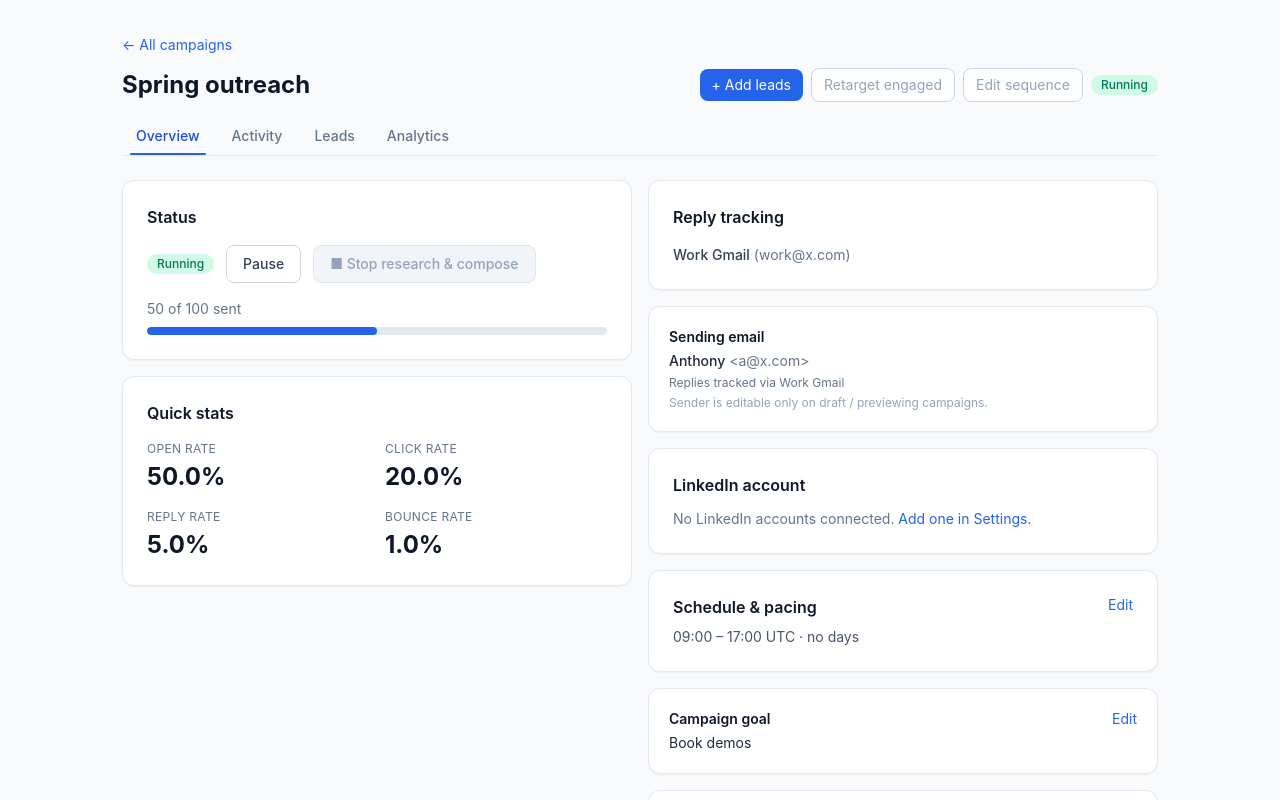
Test case: CampaignDetail › Switching to Analytics tab renders analytics content
The image size is (1280, 800).
Click the tab with test id "tab-analytics" at (418, 137), box [373,118,463,156]
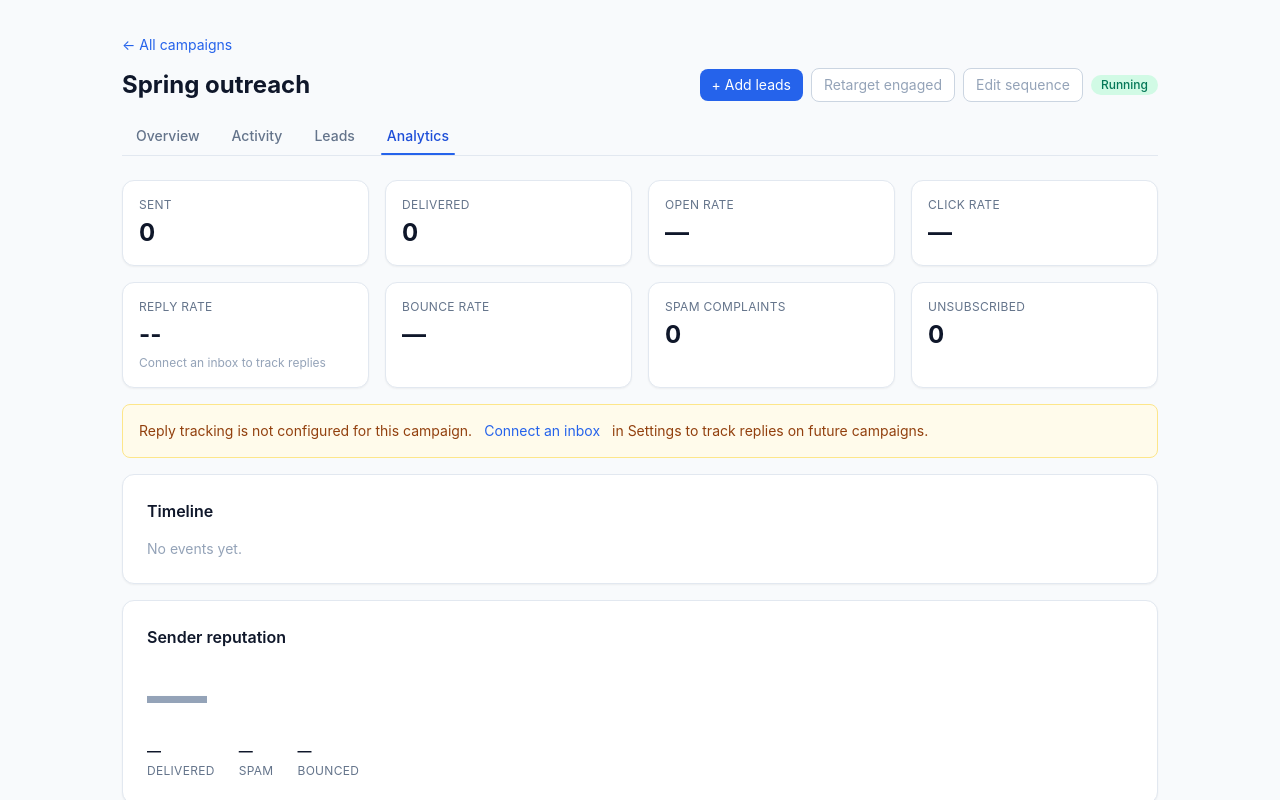
Expected: the element with test id "metric-sent" is shown, [122,180,369,266]
